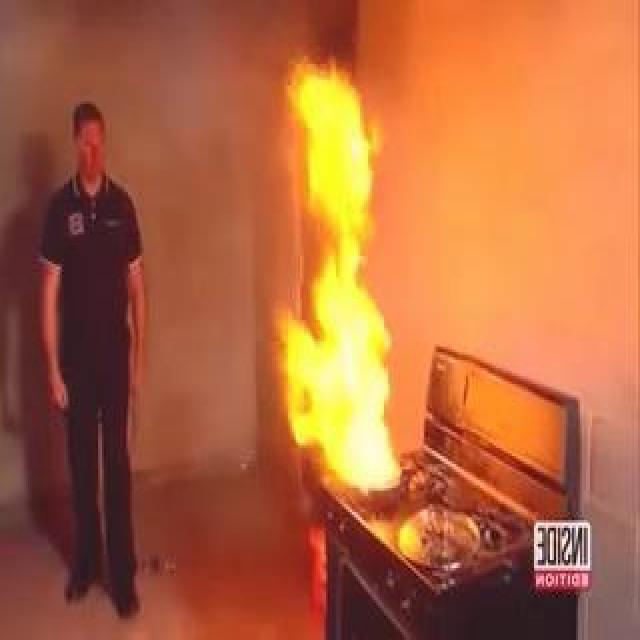Fire: (229, 131, 409, 496)
